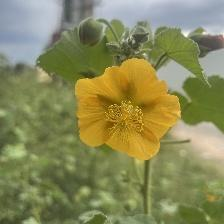indian mallow: (74, 58, 183, 164)
